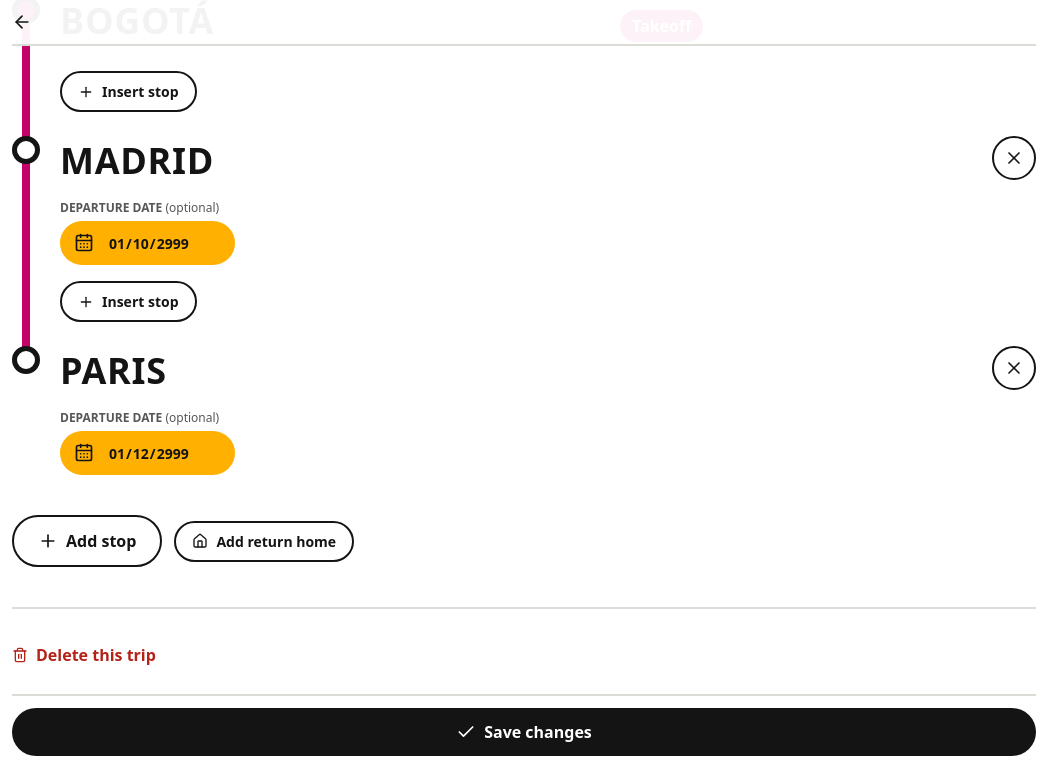
Scenario: TripForm in edit mode › puts a removed stop back with Undo
The image size is (1048, 768).
(page scrolled)
Click the button named "Remove stop 2": (1014, 368) [992,346,1036,390]
(page scrolled)
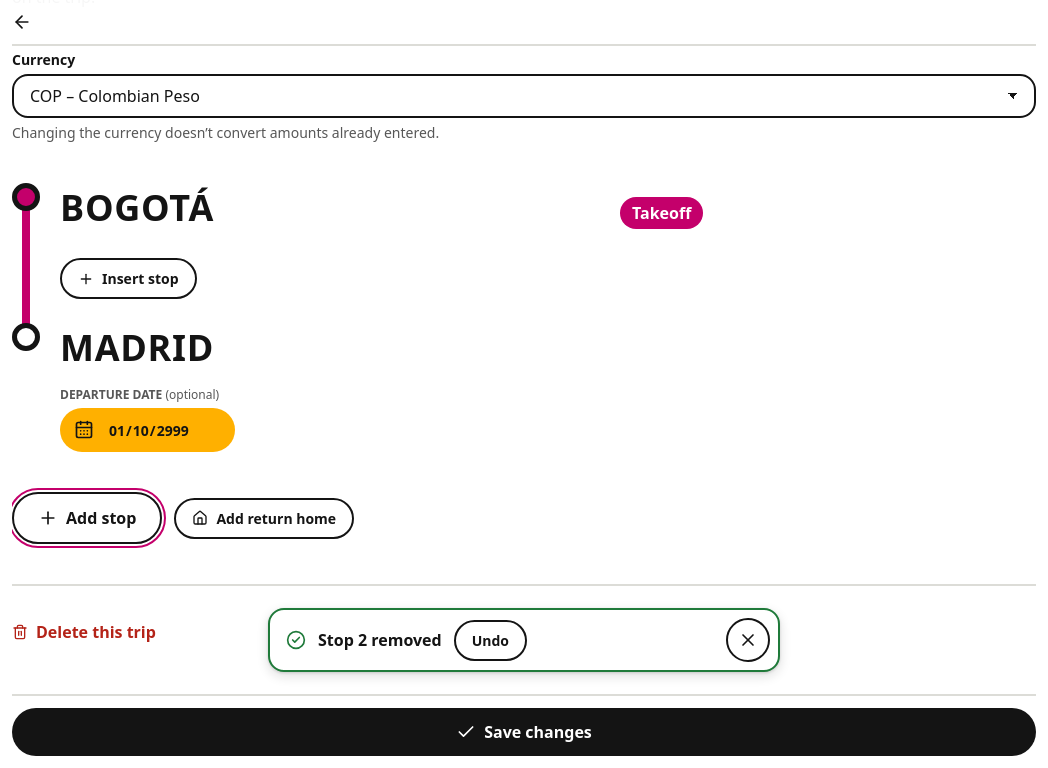
Click the button "Undo": (490, 640) [454,620,527,660]
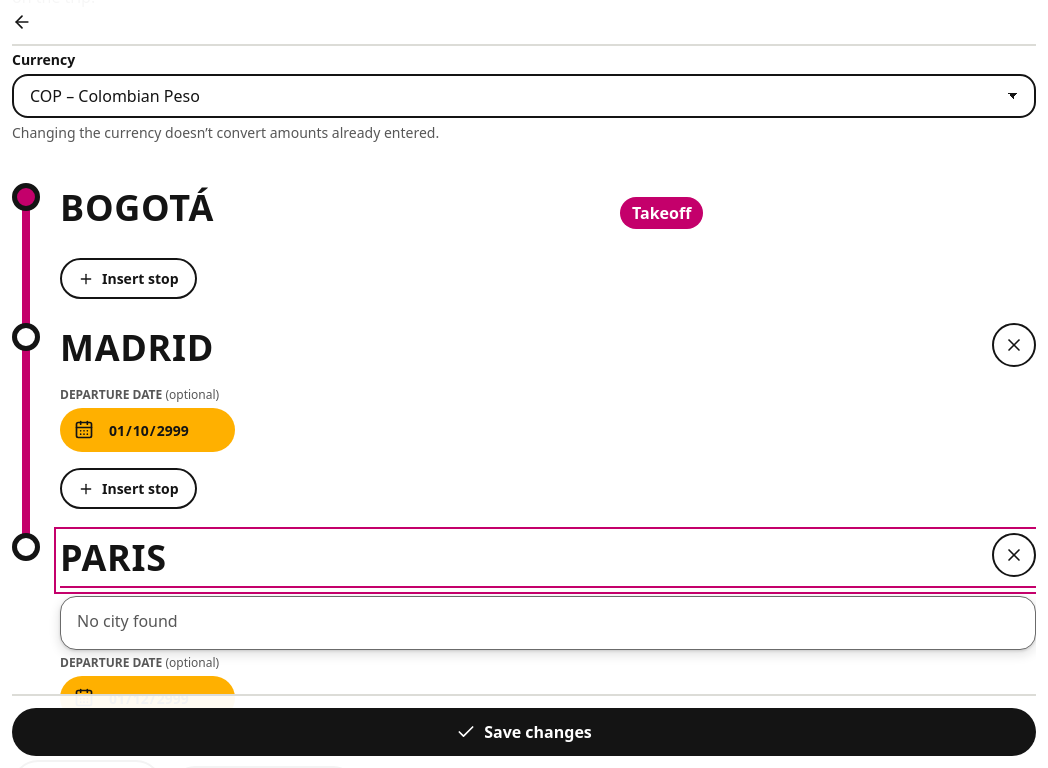
Now the element named "Stop 2" is shown, box [12,533,1036,744]
Now the 3rd dropdown showing "Paris" is shown, box [60,533,1036,588]
